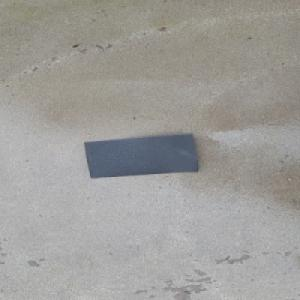PaintChip: (83, 132, 200, 178)
